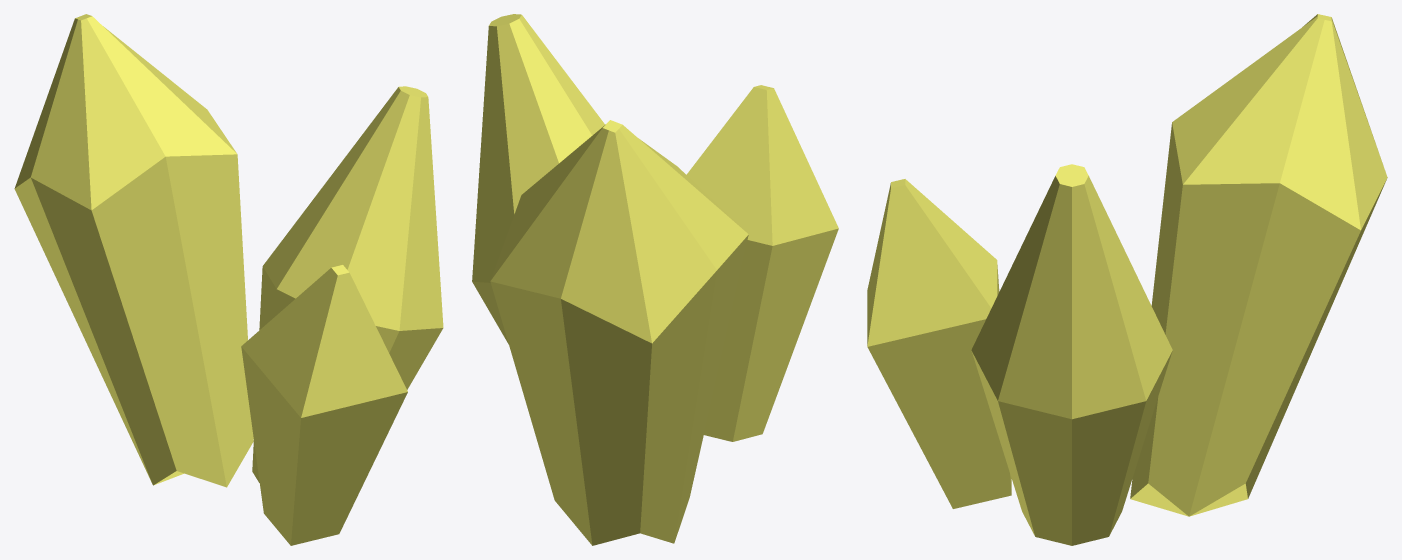
File: Crystals.fbx
3 renders of one model, left to right at view 1: azimuth 30°, elevation 25°; view 2: azimuth 150°, elevation 25°; view 3: azimuth 270°, elevation 25°, orthographic. The views are drawn at different scales.
Visible parts, largest first — view 1: Cube; view 2: Cube; view 3: Cube.
Boxes of the visible parts, left/top/right/bottom form: Cube: left=14, top=14, right=443, bottom=545; Cube: left=472, top=14, right=838, bottom=545; Cube: left=867, top=14, right=1387, bottom=545.
Bounding box in the file's own units: 341 × 459 × 468.
